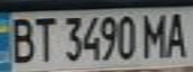0: (115, 12, 142, 61)
3: (60, 12, 84, 62)
4: (78, 12, 103, 62)
9: (100, 12, 121, 62)
A: (163, 9, 193, 60)
B: (3, 14, 39, 65)
M: (139, 10, 172, 60)
T: (30, 14, 57, 63)
